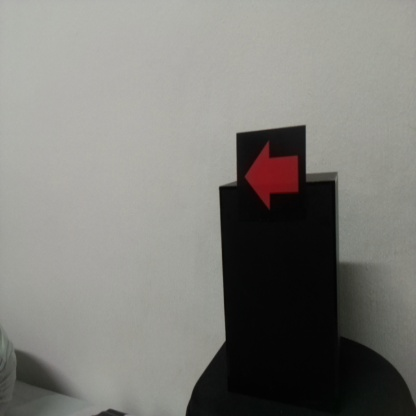id_4: (237, 133, 306, 220)
